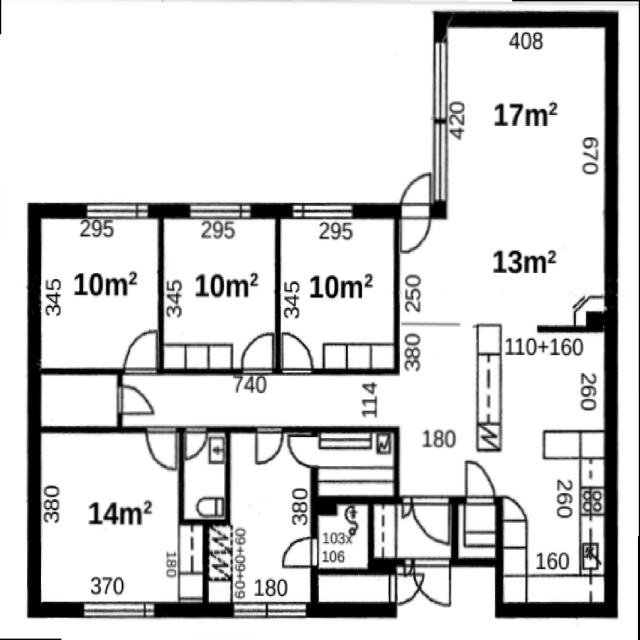door: (239, 328, 317, 376), (396, 168, 438, 250), (403, 552, 454, 609), (404, 492, 454, 546), (456, 454, 503, 504), (121, 325, 161, 374), (278, 532, 321, 573), (278, 328, 314, 376), (239, 329, 277, 374), (113, 380, 157, 418), (143, 424, 180, 469), (252, 423, 286, 468), (286, 429, 322, 470), (180, 424, 210, 461)
window: (427, 36, 452, 126), (182, 198, 259, 223), (80, 198, 153, 222), (291, 198, 358, 222), (239, 598, 313, 619), (80, 600, 156, 620)
zone: (440, 15, 610, 327), (35, 428, 184, 607), (34, 209, 162, 374), (276, 211, 396, 374), (159, 212, 280, 373), (496, 447, 612, 610), (212, 434, 317, 614), (400, 324, 502, 499), (476, 326, 608, 458), (310, 425, 398, 502), (34, 371, 121, 428), (182, 429, 228, 521), (315, 500, 371, 571), (453, 499, 500, 559)
